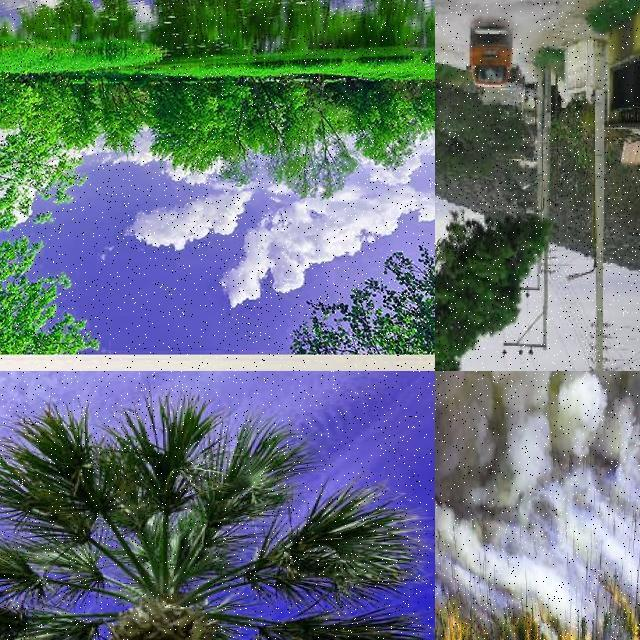tree: (0, 395, 428, 640), (435, 4, 577, 372), (0, 52, 132, 356), (147, 78, 267, 185), (271, 78, 355, 198), (54, 83, 158, 161), (354, 83, 434, 167), (436, 620, 440, 640)
